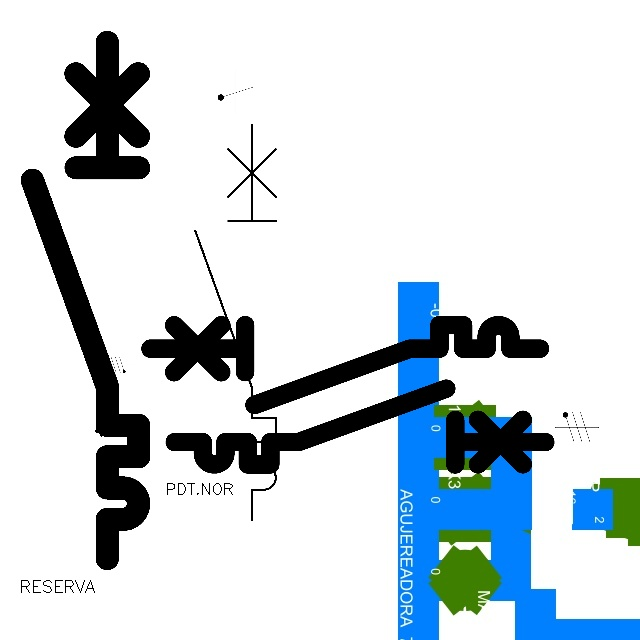interruptor_termomagnetico: (19, 29, 152, 572), (185, 114, 286, 529), (140, 315, 550, 415), (165, 379, 555, 474)
